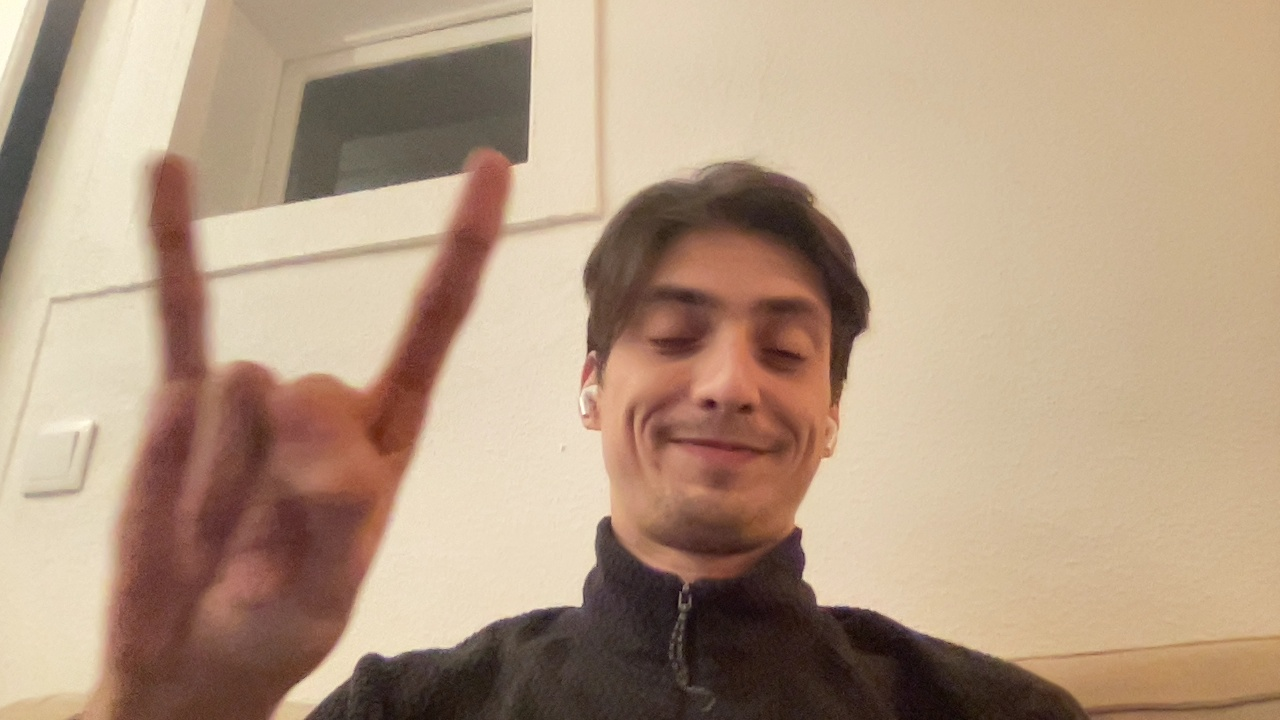I Love You: (107, 96, 536, 650)
